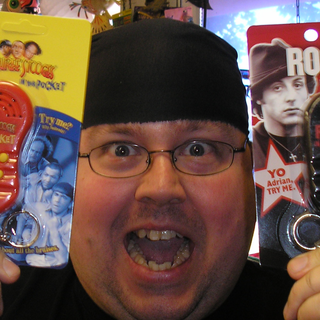eye: (169, 135, 223, 164), (100, 139, 141, 161)
